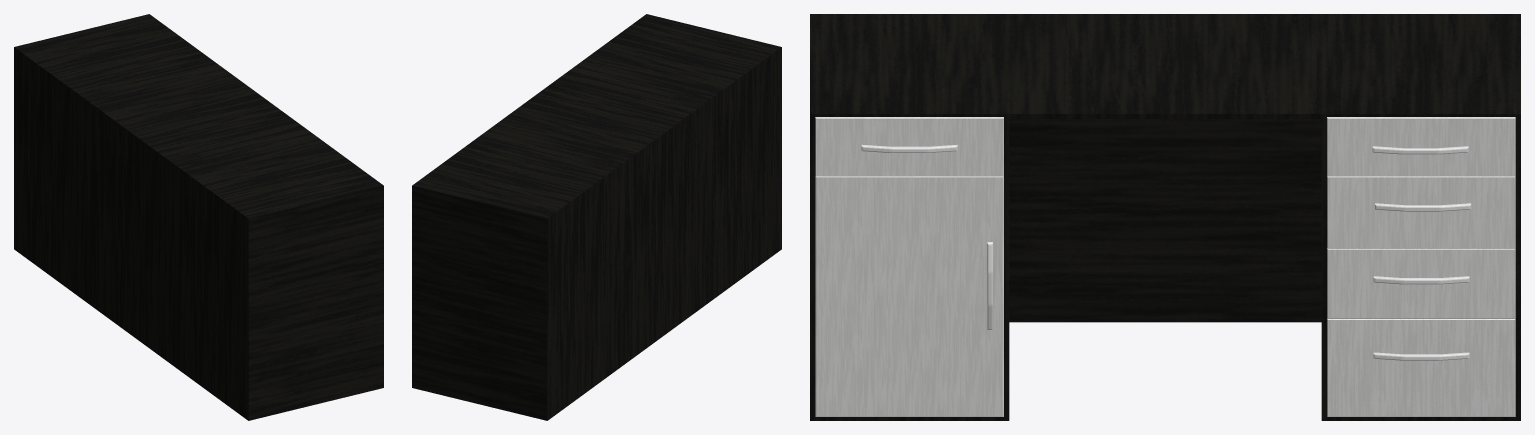
3 views of the same model, side by side, from view 1: azimuth 30°, elevation 25°; view 2: azimuth 150°, elevation 25°; view 3: azimuth 270°, elevation 25° (orthographic). The views are drawn at different scales.
Parts seen in each view (by area): view 1: Stol; view 2: Stol; view 3: Stol, 6_0, 5_0, 3_0, 4_0, 2_0, 1_0.
Part boxes in pixels (x1,y1,x2,y2): Stol: [14, 14, 383, 420]; Stol: [412, 14, 781, 420]; Stol: [810, 14, 1520, 420]; 6_0: [815, 176, 1003, 416]; 5_0: [1327, 319, 1515, 416]; 3_0: [1327, 176, 1515, 248]; 4_0: [1327, 248, 1515, 318]; 2_0: [1327, 117, 1515, 176]; 1_0: [815, 117, 1003, 176].
Size of the model in its own units: 0.6867 by 0.936 by 1.97.
Materials: 7 (7 with a texture image).
